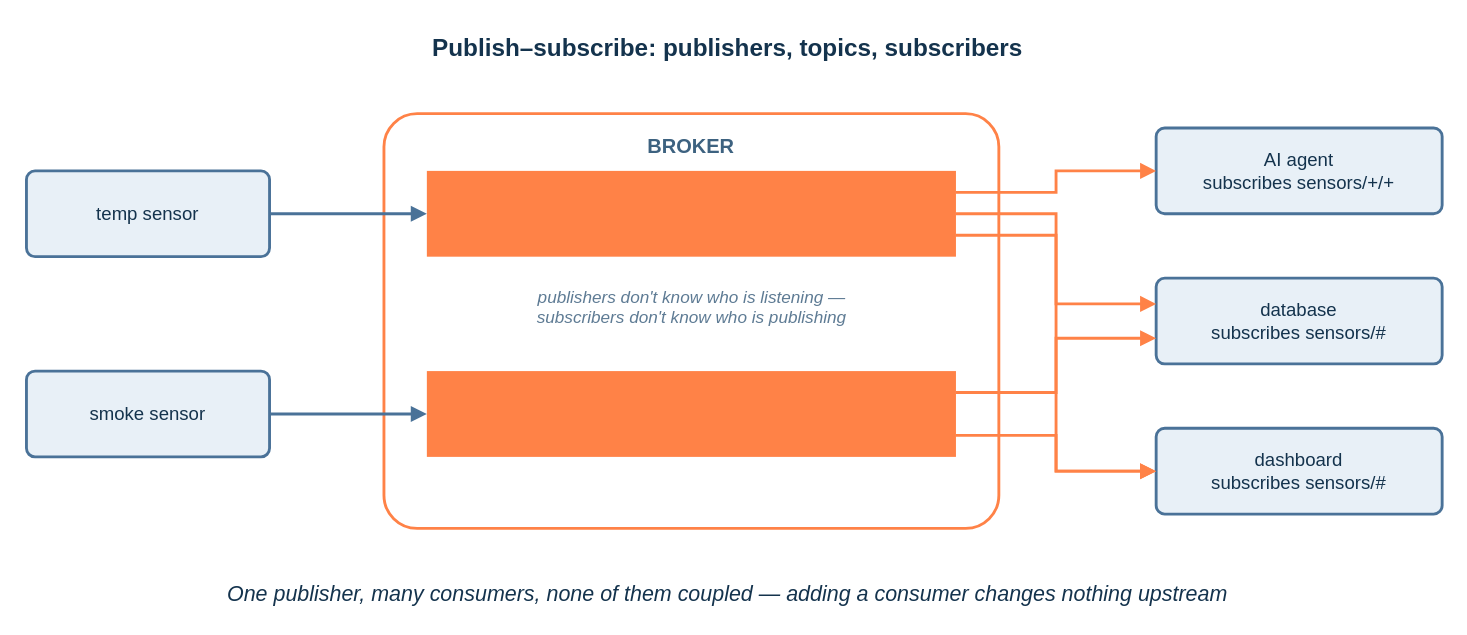
This 1467x635 diagram has some shape labels left out. Here are the shapes that lost their labels. From the top down, the centre of each, then its label:
At point 690,213: "topic — sensors/floor1/temp".
At point 690,413: "topic — sensors/floor1/smoke".
